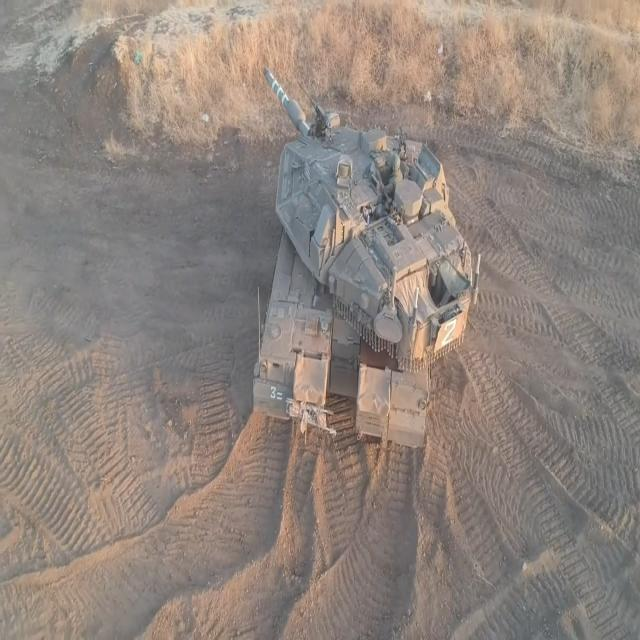tank: (252, 57, 486, 485)
